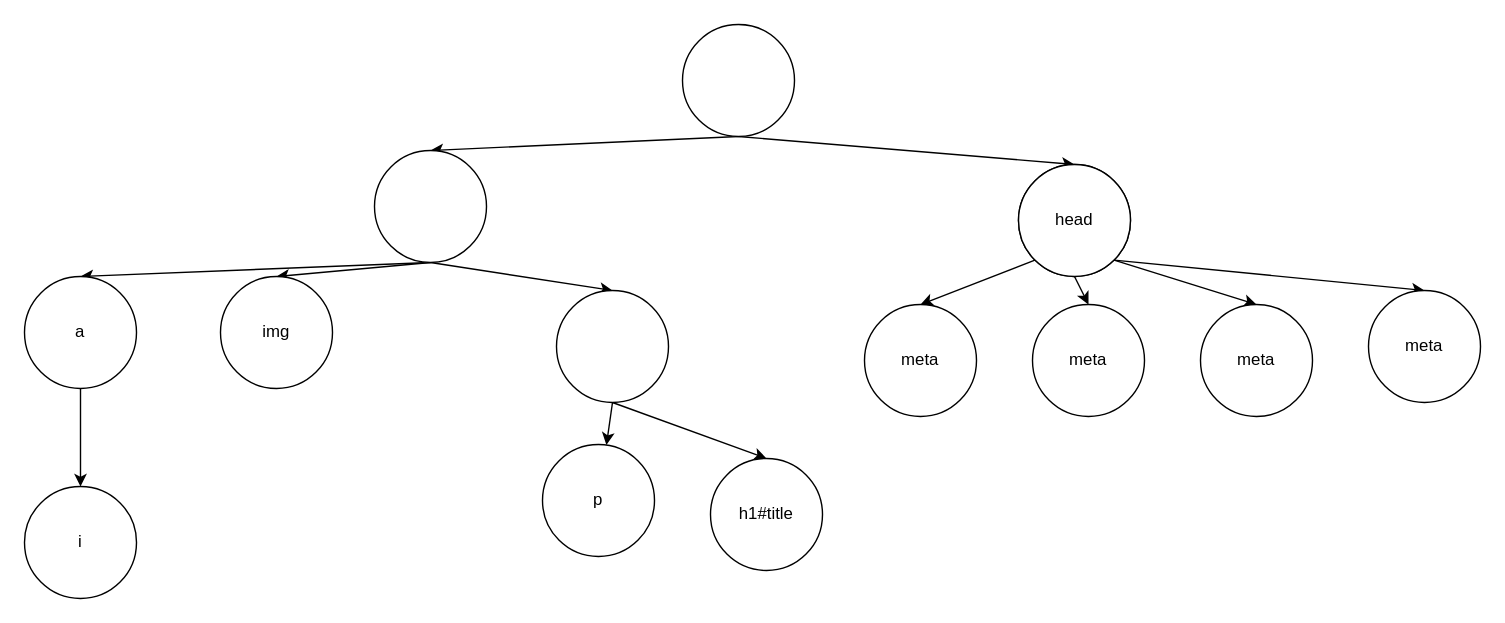
The diagram is 1505 pixels wide and 623 high, and some of its shapes have lost their labels. The shapes that lost their labels are listed below. From the top down, each one's centre as x and y in pixels, then its label:
point 737,79: html
point 429,205: body
point 611,345: div.test
